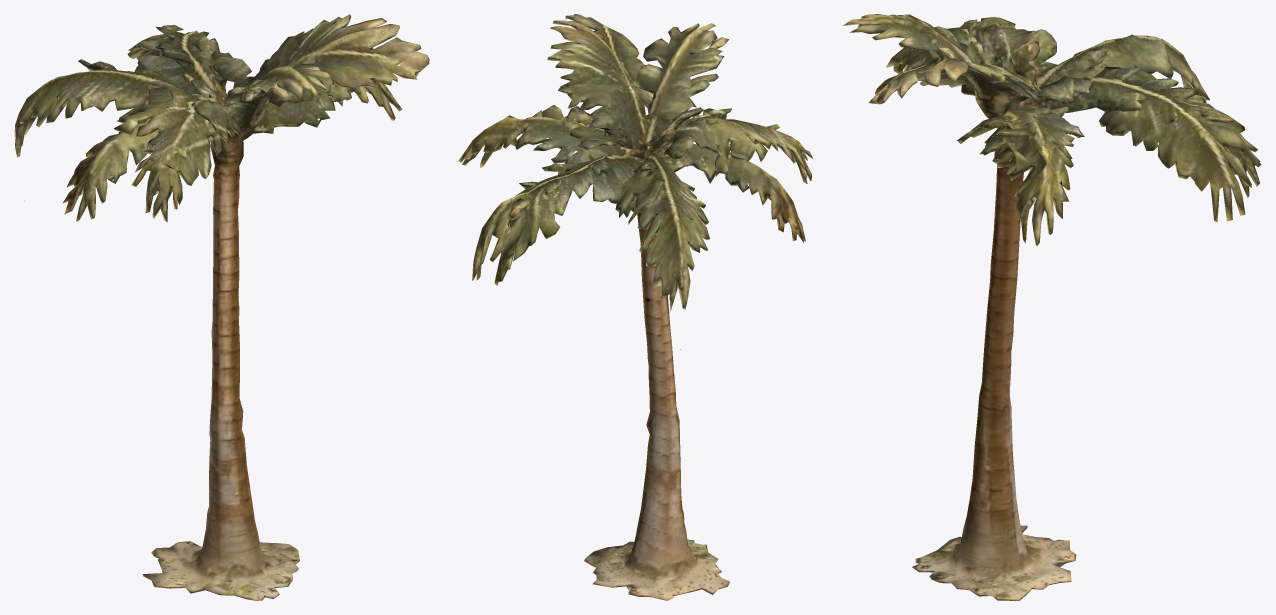
File: gourd-prop-palm-a.glb
3 renders of one model, left to right at view 1: azimuth 30°, elevation 25°; view 2: azimuth 150°, elevation 25°; view 3: azimuth 270°, elevation 25°, orthographic. The views are drawn at different scales.
Parts seen in each view (by area): view 1: low; view 2: low; view 3: low.
Boxes of the visible parts, x1,y1,x2,y2 form: low: [14, 14, 429, 600]; low: [458, 14, 813, 600]; low: [843, 14, 1261, 600].
Bounding box in the file's own units: 0.379 × 0.55 × 0.3746.
Materials: 1 (1 with a texture image).
